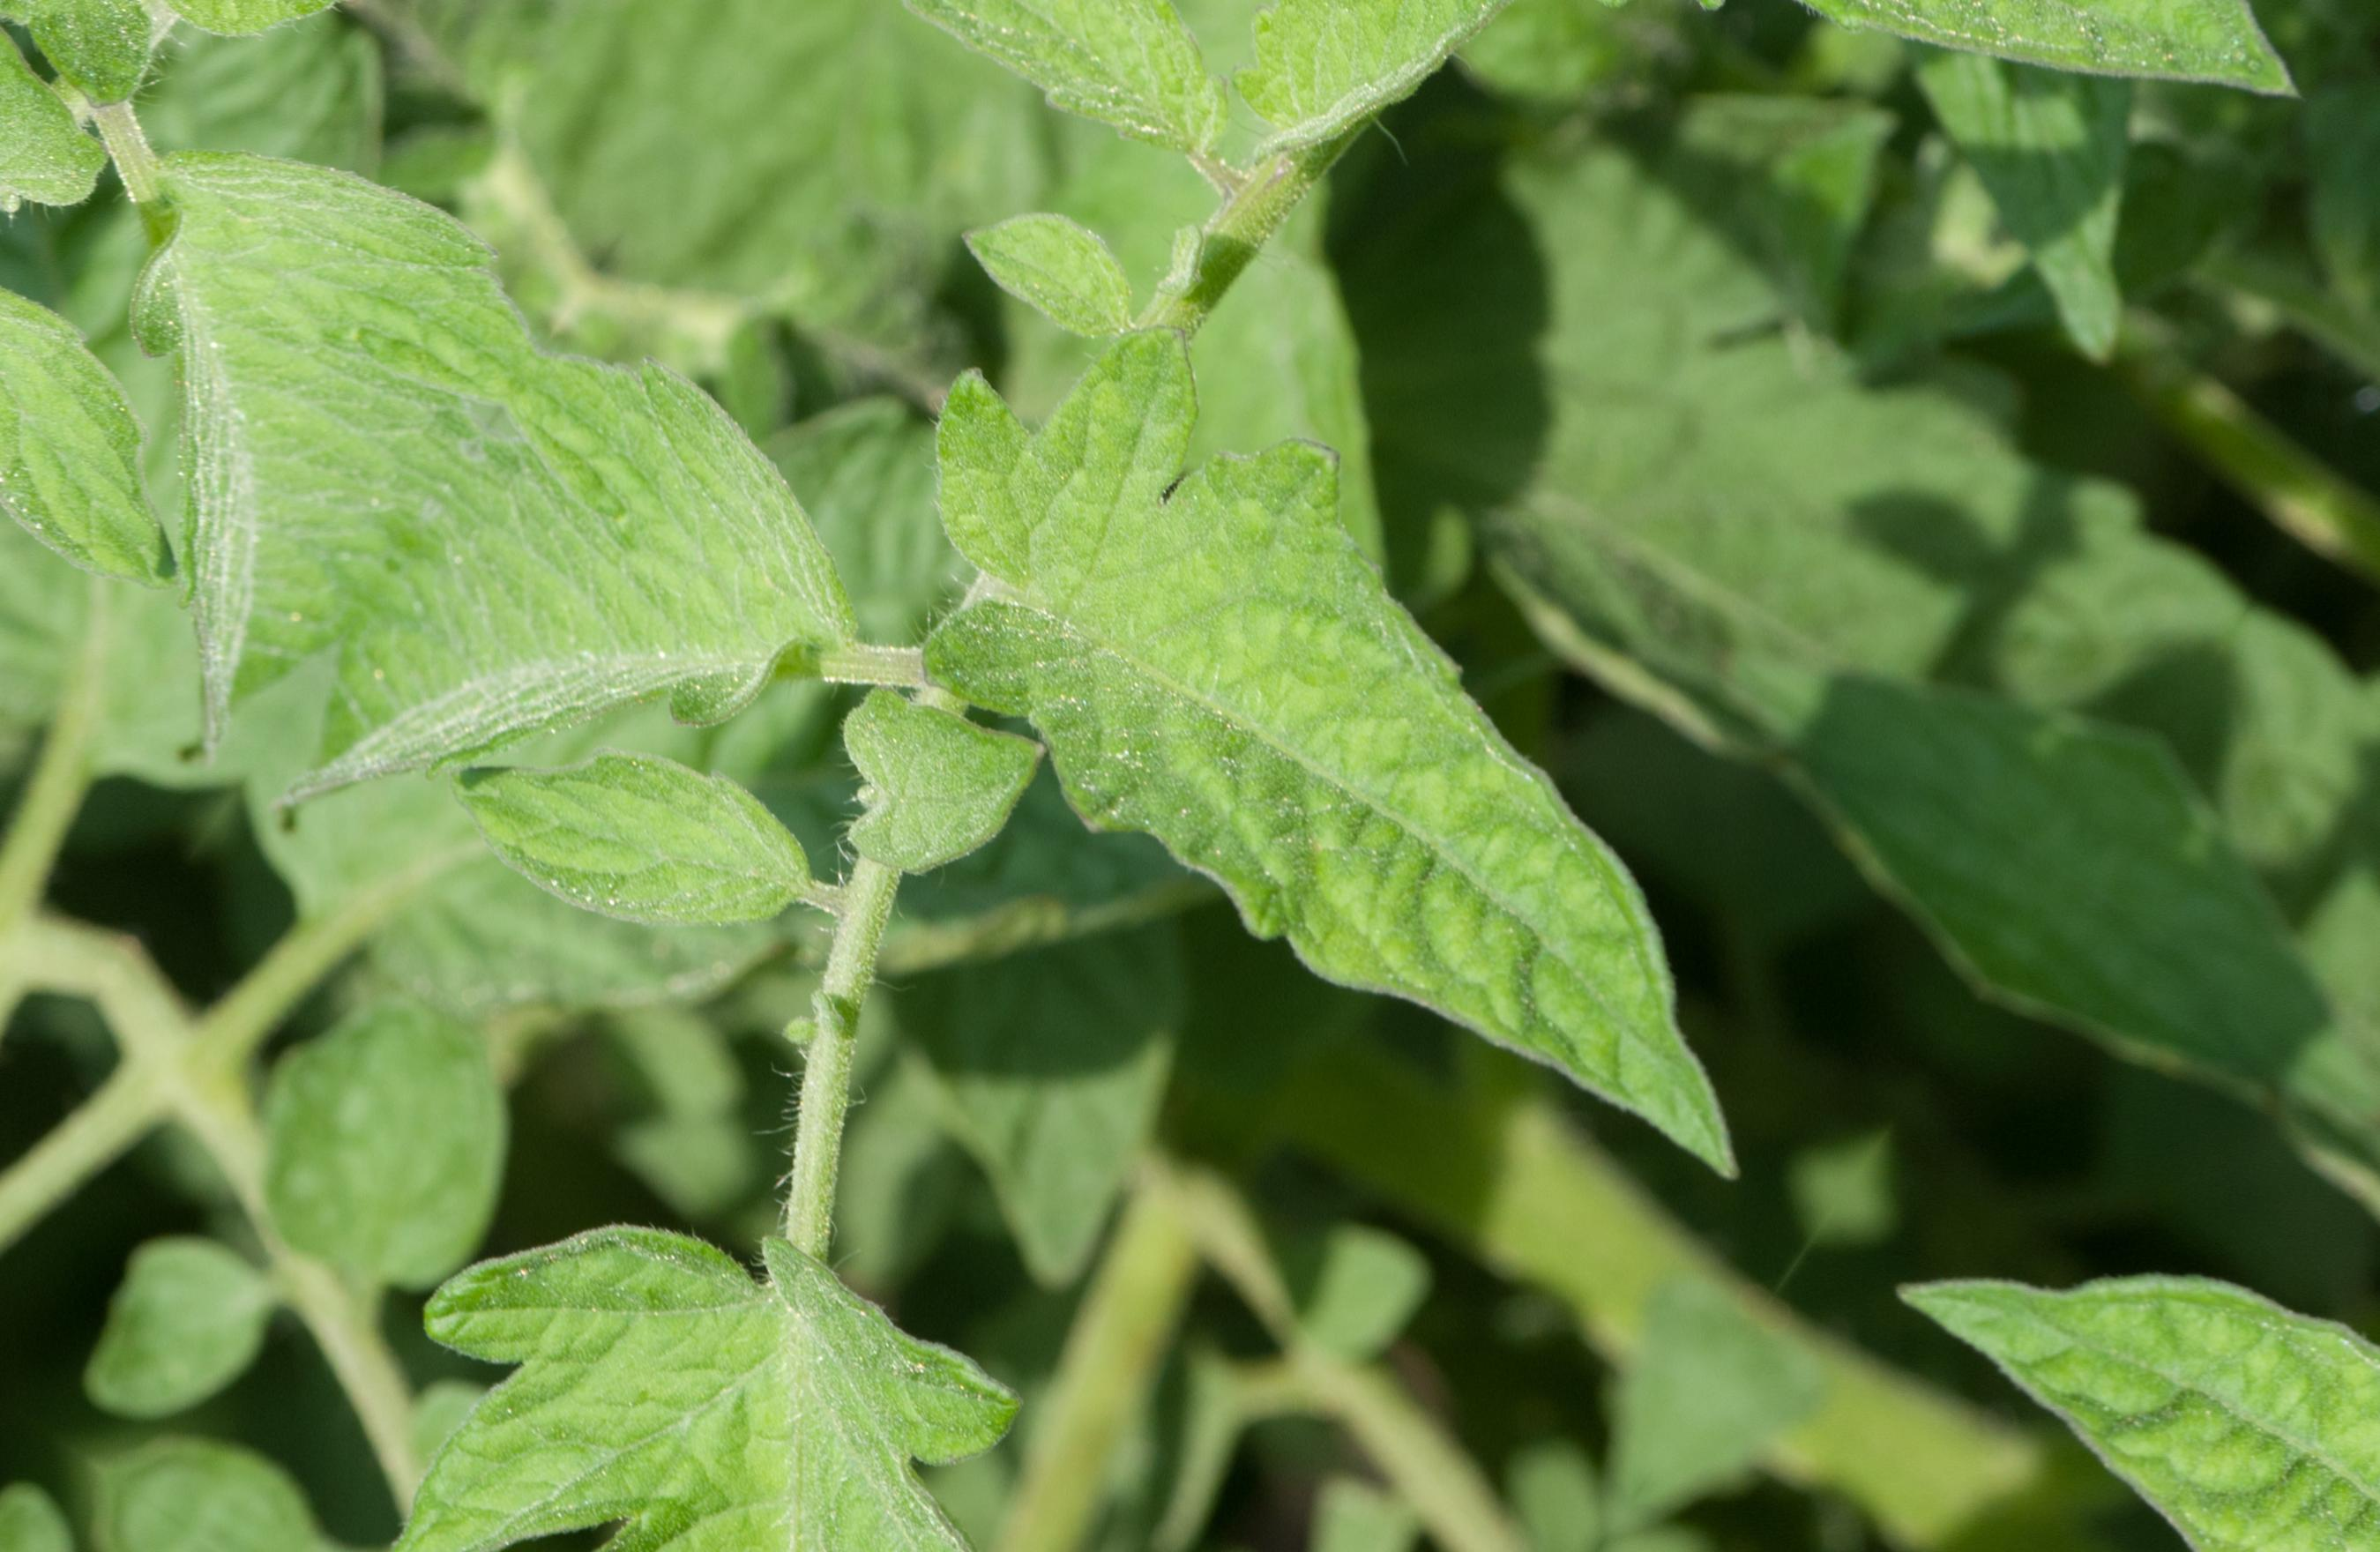Tomato leaf: (763, 176, 2009, 1257), (312, 938, 1557, 1552), (228, 267, 1036, 1105), (1317, 0, 2380, 475)
